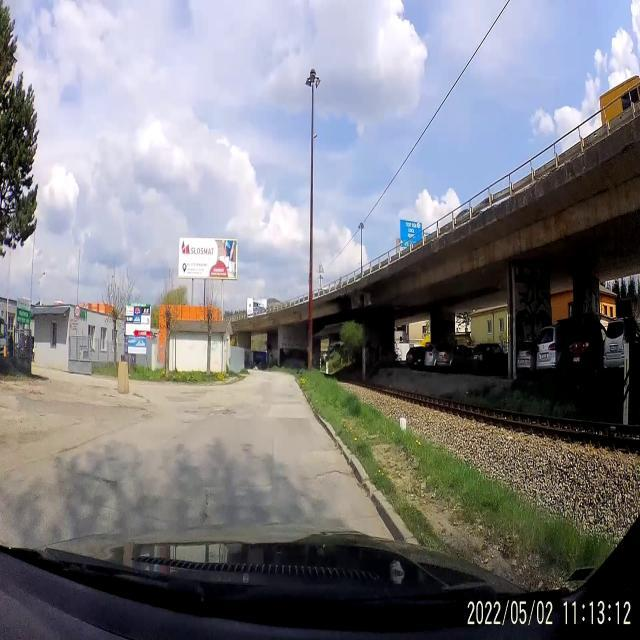Pothole: (184, 396, 238, 422), (314, 462, 354, 492), (197, 490, 216, 524)
